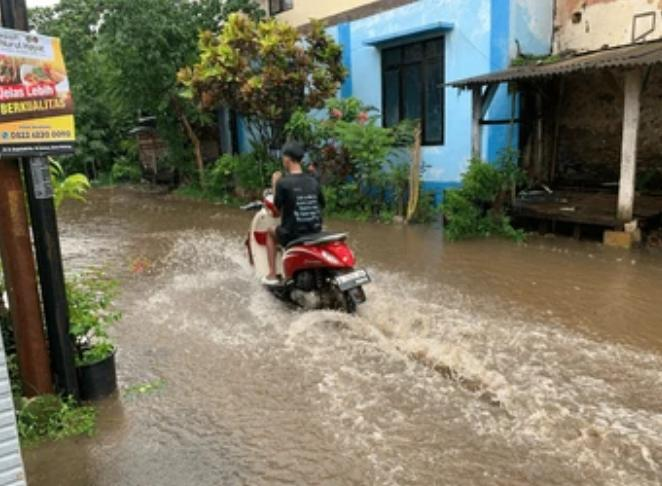water accumulation: (14, 186, 662, 486)
